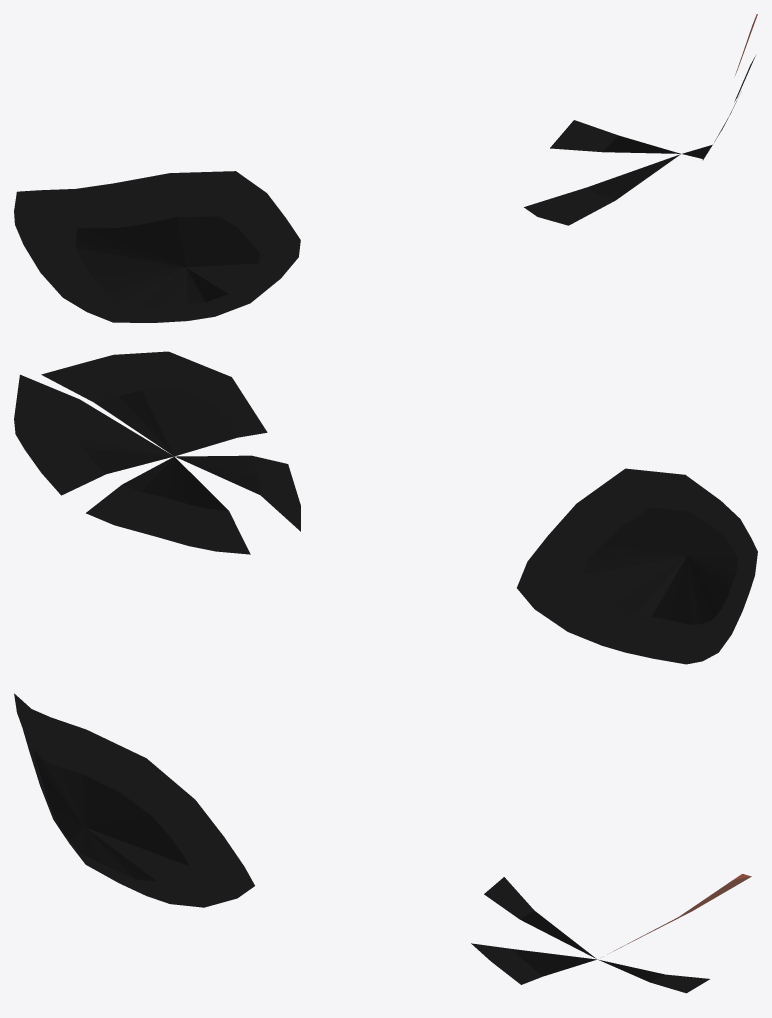
File: myna_stencil.fbx
3 renders of one model, top to bottom at view 1: azimuth 30°, elevation 25°; view 2: azimuth 150°, elevation 25°; view 3: azimuth 330°, elevation 25°, orthographic.
Visible parts, largest first — view 1: 00.Myna.002; view 2: 00.Myna.002; view 3: 00.Myna.002.
Boxes of the visible parts, x1,y1,x2,y2 form: 00.Myna.002: (14, 14, 757, 322); 00.Myna.002: (14, 351, 757, 664); 00.Myna.002: (14, 693, 751, 993).
Size of the model in its own units: 14.45 by 3.22 by 1.85.
